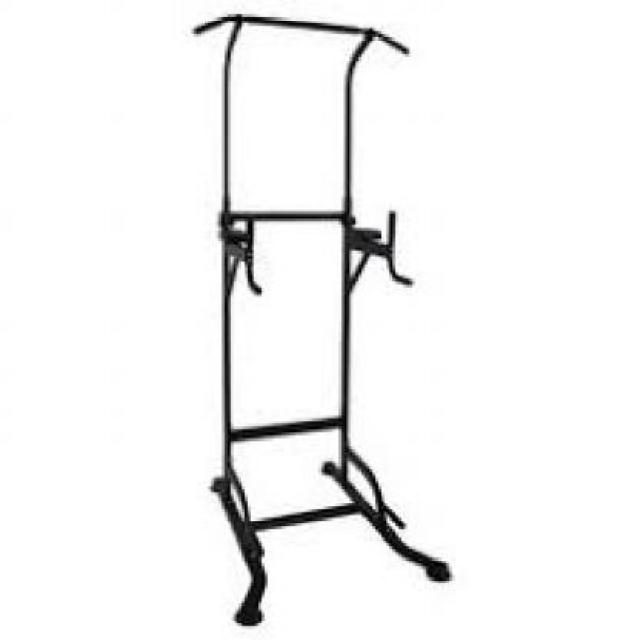chinning dipping: (191, 12, 455, 626)
